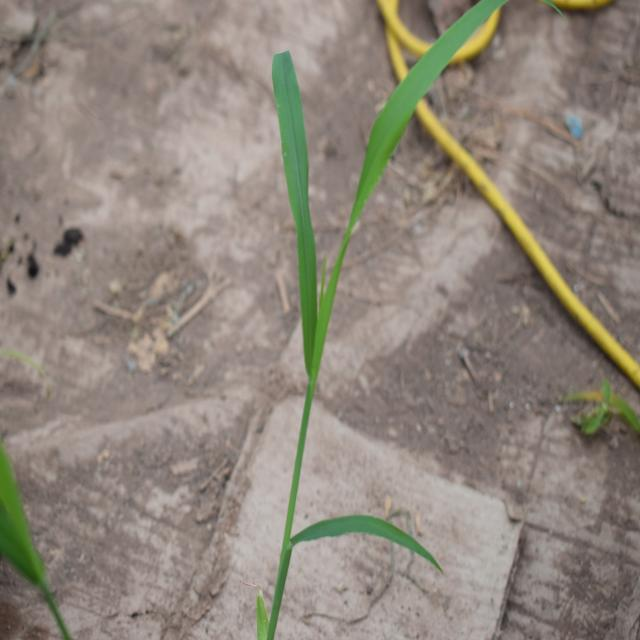crabgrass: (237, 0, 515, 596)
